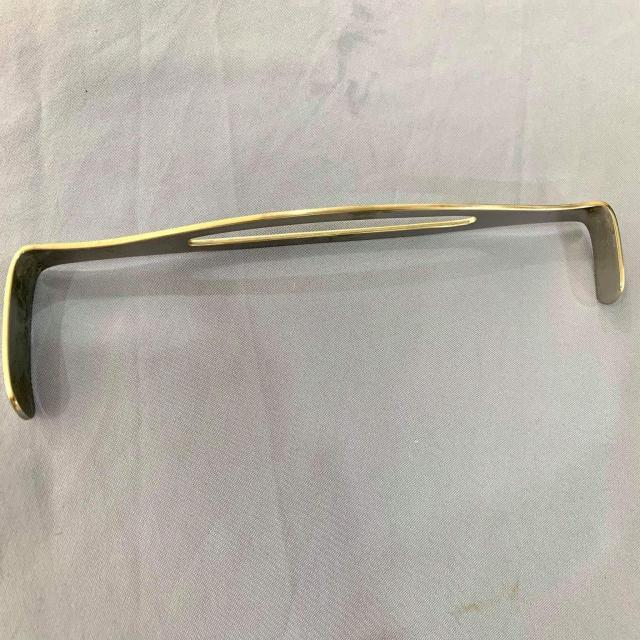Army_navy: (0, 196, 628, 424)
